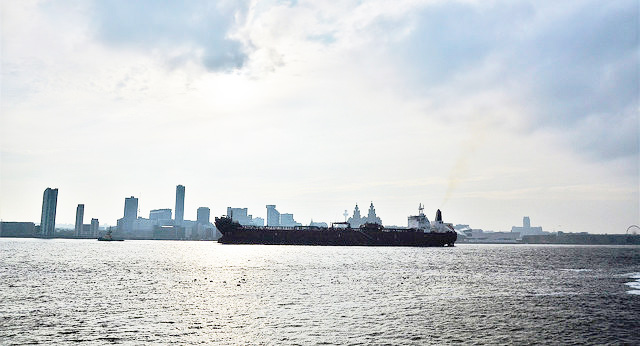tanker: (214, 208, 460, 247)
tug_boat: (96, 226, 126, 242)
